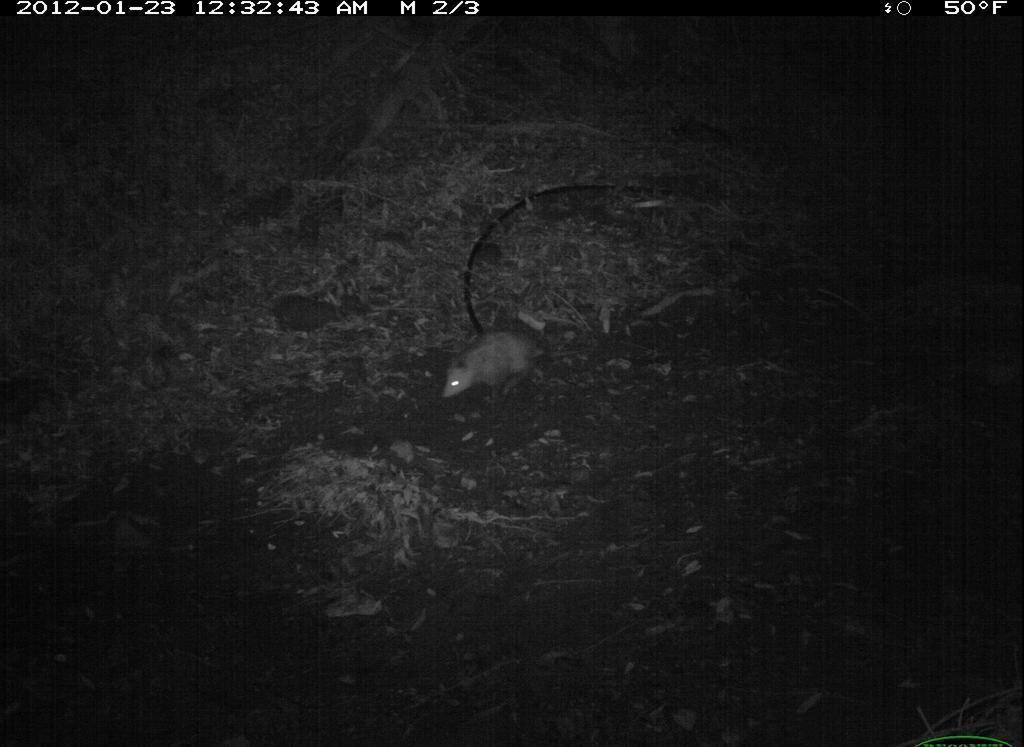opossum: (434, 323, 633, 406)
